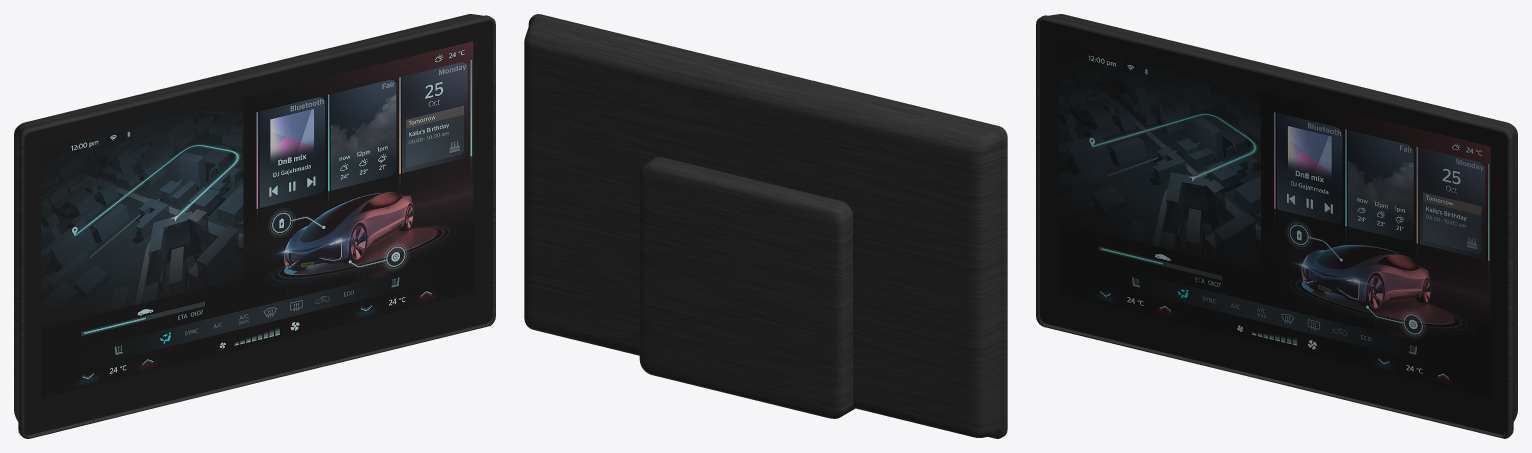
The model's file is Fix_CID1 - Copy.fbx.
The picture shows the model from 3 angles, left to right: view 1: azimuth 30°, elevation 25°; view 2: azimuth 150°, elevation 25°; view 3: azimuth 330°, elevation 25°; orthographic projection.
Visible parts, largest first — view 1: Fix_Cid1; view 2: Fix_Cid1; view 3: Fix_Cid1.
Part boxes in pixels (left/top/right/bottom): Fix_Cid1: left=14, top=14, right=495, bottom=438; Fix_Cid1: left=524, top=14, right=1007, bottom=438; Fix_Cid1: left=1036, top=14, right=1517, bottom=438.
Size of the model in its own units: 37.33 by 23.22 by 4.22.
1 material, 1 textured.
